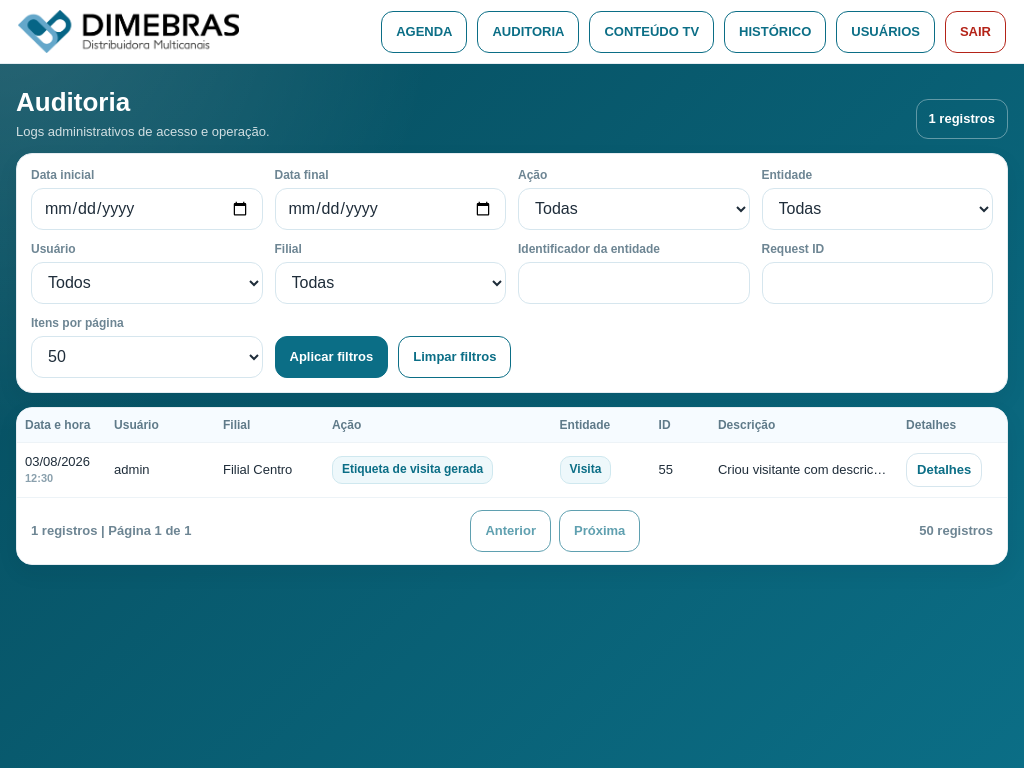
Test case: AuditLogs page › uses friendly action and entity labels in the details modal
Click the button with aria-label "Detalhes do registro de auditoria 10".
click(944, 470)  # box [906, 453, 982, 487]
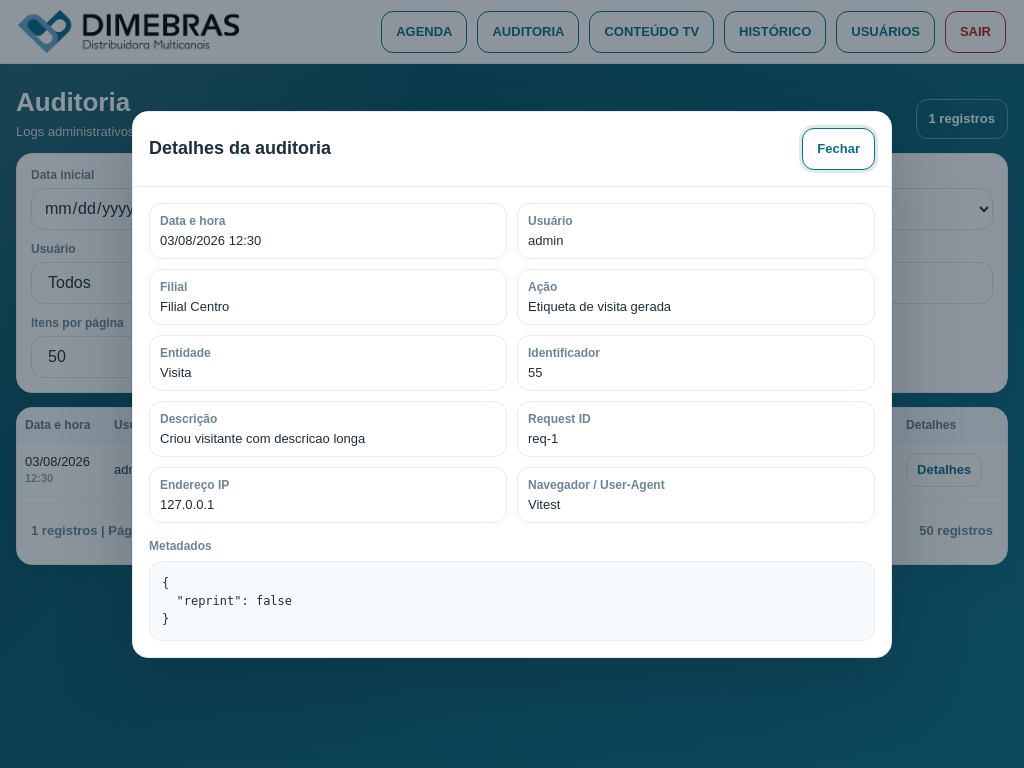
Expected: the dialog "Detalhes da auditoria" shows "Etiqueta de visita gerada", [528, 298, 671, 314]
Expected: the dialog "Detalhes da auditoria" shows "Visita", [160, 364, 192, 380]
Expected: the dialog "Detalhes da auditoria" shows "Data e hora", [160, 214, 225, 228]
